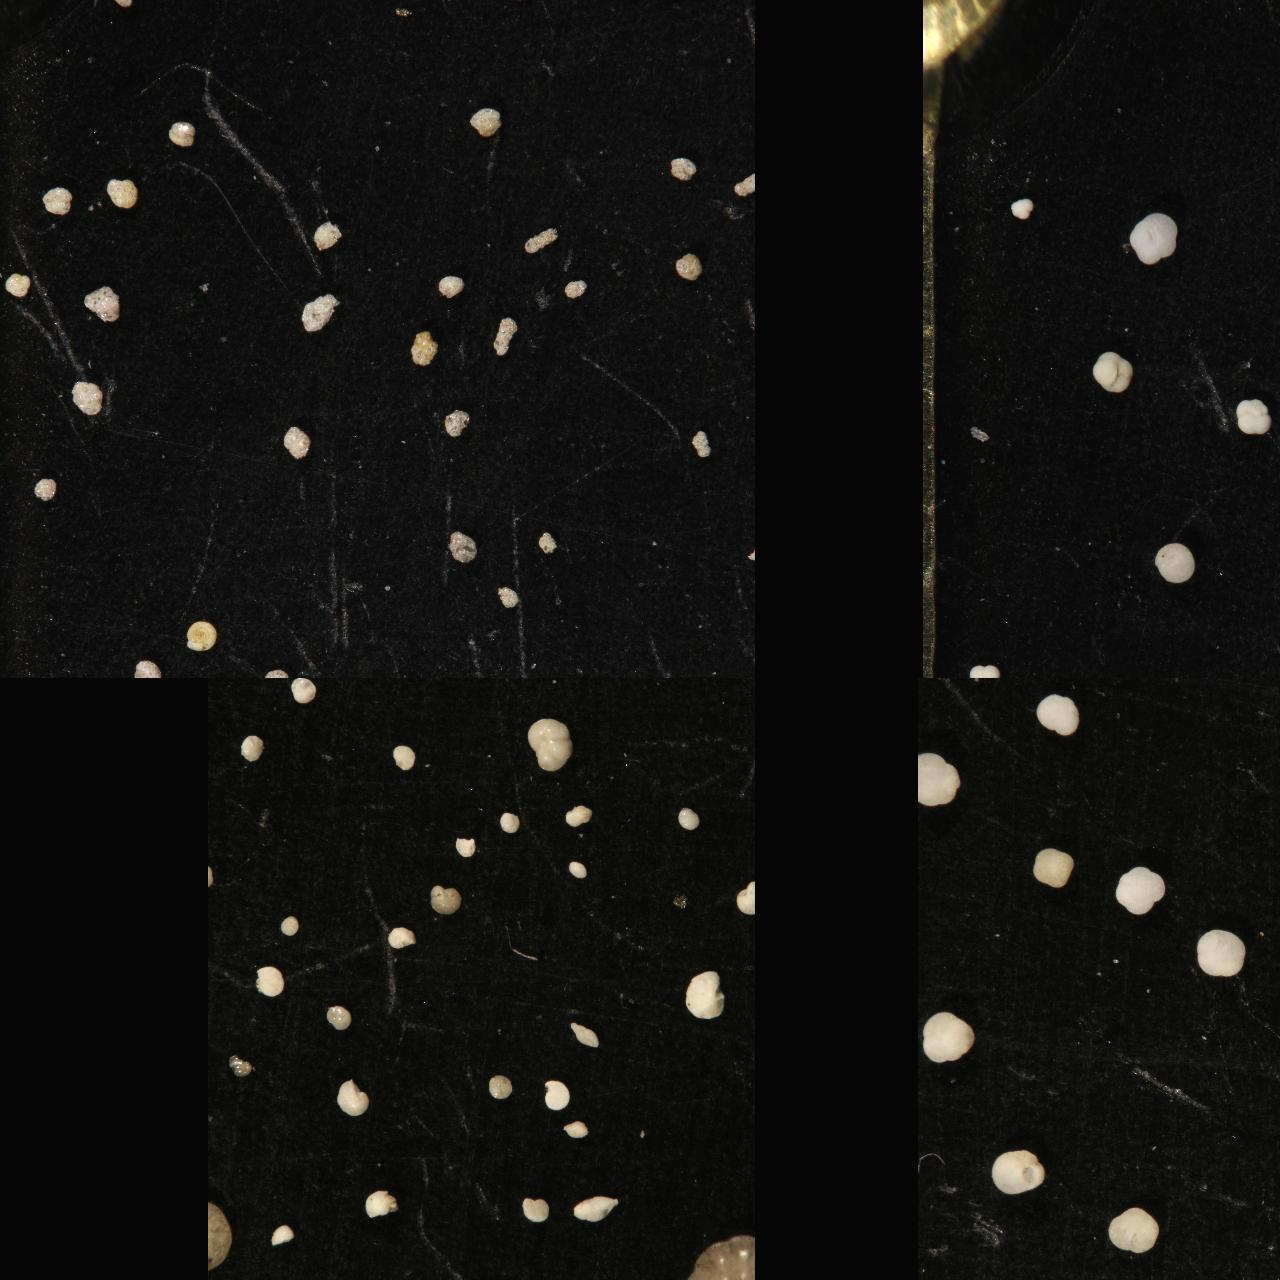agglutinated: (299, 293, 338, 333), (82, 285, 120, 321), (70, 381, 102, 415), (467, 105, 502, 136), (490, 316, 516, 358), (104, 177, 136, 209), (523, 225, 558, 253), (281, 424, 308, 459), (409, 331, 436, 366), (184, 620, 215, 651), (311, 220, 340, 250), (449, 531, 476, 563), (40, 188, 70, 215), (442, 408, 468, 438), (166, 120, 193, 147), (674, 252, 701, 279), (667, 155, 694, 181), (5, 272, 29, 298), (731, 171, 755, 197), (284, 0, 315, 18), (438, 275, 462, 299), (496, 584, 518, 608), (33, 477, 55, 502), (132, 658, 158, 678), (690, 431, 709, 457), (617, 0, 646, 16), (502, 0, 527, 18), (563, 278, 585, 298), (537, 530, 554, 554), (360, 0, 390, 14), (427, 0, 456, 12), (110, 0, 131, 14), (263, 668, 290, 678), (745, 543, 755, 568)
calcareous: (683, 1235, 755, 1280), (525, 716, 573, 772), (685, 968, 724, 1021), (416, 678, 488, 707), (572, 1194, 620, 1224), (334, 1078, 368, 1117), (362, 1187, 399, 1219), (429, 881, 462, 915), (568, 1019, 599, 1049), (543, 1080, 570, 1112), (254, 966, 282, 996), (248, 678, 290, 697), (384, 924, 415, 949), (522, 1196, 549, 1224), (563, 803, 593, 828), (600, 678, 638, 697), (389, 742, 415, 770), (734, 880, 755, 914), (266, 1221, 293, 1247), (324, 1005, 349, 1032), (290, 678, 316, 703), (238, 734, 263, 762), (486, 1073, 511, 1099), (227, 1051, 251, 1078), (488, 678, 527, 693), (561, 1117, 588, 1139), (452, 833, 475, 859), (411, 678, 441, 696), (496, 809, 518, 833), (678, 804, 699, 830), (279, 914, 299, 938), (456, 678, 481, 696), (563, 678, 590, 694), (314, 678, 345, 692), (701, 678, 730, 692), (687, 678, 715, 692), (567, 858, 585, 880), (400, 678, 427, 690), (416, 678, 441, 692), (588, 678, 612, 690), (343, 678, 365, 692), (585, 678, 607, 690), (529, 678, 552, 689), (542, 678, 563, 689)
planktic: (1125, 211, 1179, 266), (921, 1009, 975, 1063), (1112, 864, 1166, 915), (1194, 926, 1246, 978), (988, 1150, 1046, 1196), (1107, 1206, 1160, 1253), (917, 750, 959, 808), (1033, 693, 1080, 737), (1089, 350, 1133, 394), (1151, 540, 1194, 584), (1032, 845, 1075, 888), (988, 678, 1039, 708), (1233, 396, 1271, 436), (1039, 678, 1080, 699), (1006, 195, 1032, 219), (966, 662, 1000, 678), (1234, 678, 1264, 694)
